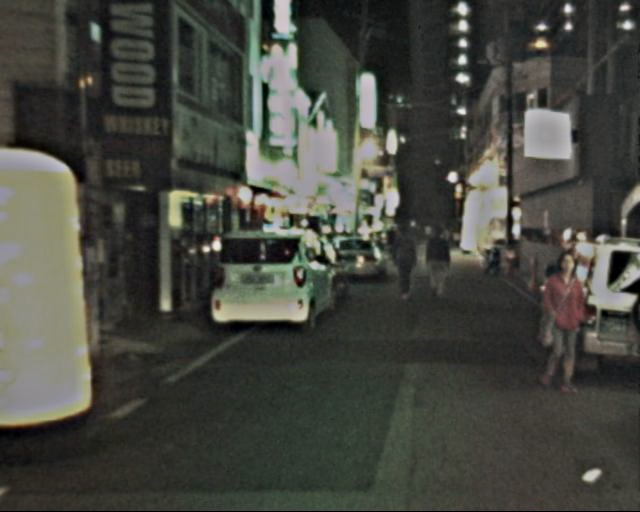person: (533, 253, 593, 389), (424, 226, 458, 296), (390, 228, 421, 296)
